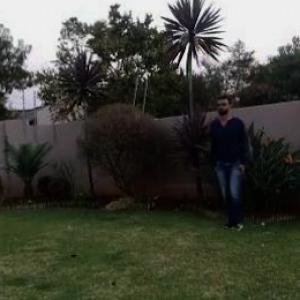follow: (210, 93, 250, 231)
